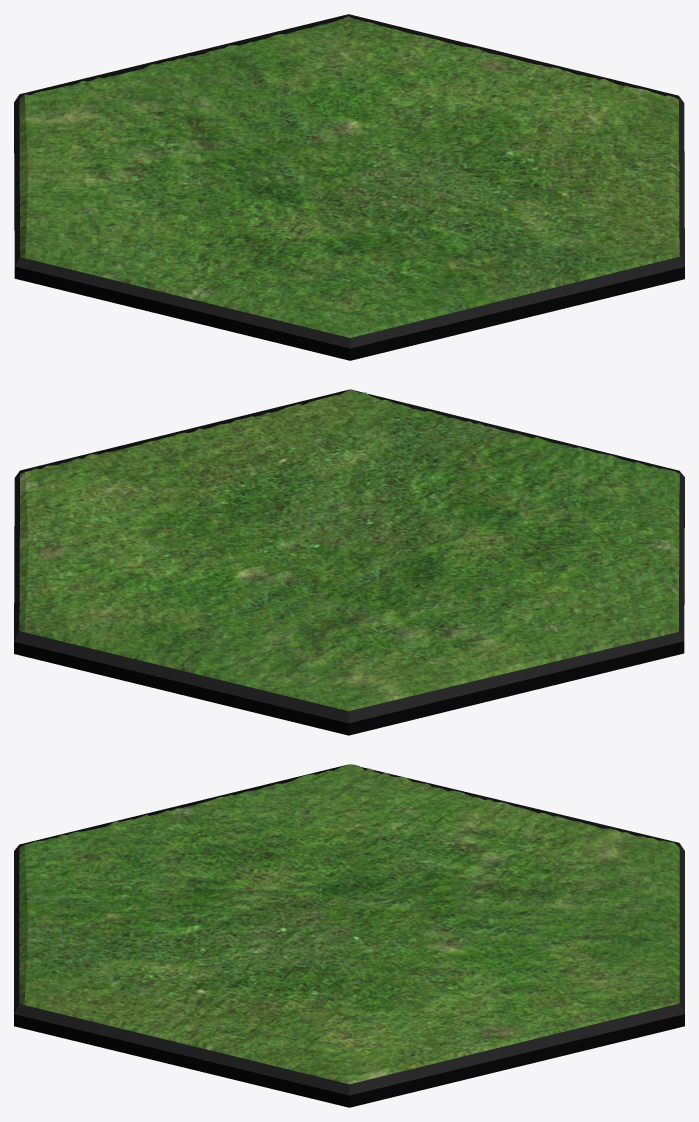
The model's file is HexTileGrass_UsingDisplacement5.glb.
3 renders of one model, top to bottom at view 1: azimuth 30°, elevation 25°; view 2: azimuth 150°, elevation 25°; view 3: azimuth 270°, elevation 25°, orthographic.
Parts seen in each view (by area): view 1: HexTileGrass.002; view 2: HexTileGrass.002; view 3: HexTileGrass.002.
Boxes of the visible parts, left/top/right/bottom form: HexTileGrass.002: left=14, top=14, right=684, bottom=360; HexTileGrass.002: left=14, top=389, right=684, bottom=735; HexTileGrass.002: left=14, top=764, right=684, bottom=1107.
Size of the model in its own units: 1.99 by 0.0743 by 1.73.
1 material, 1 textured.
